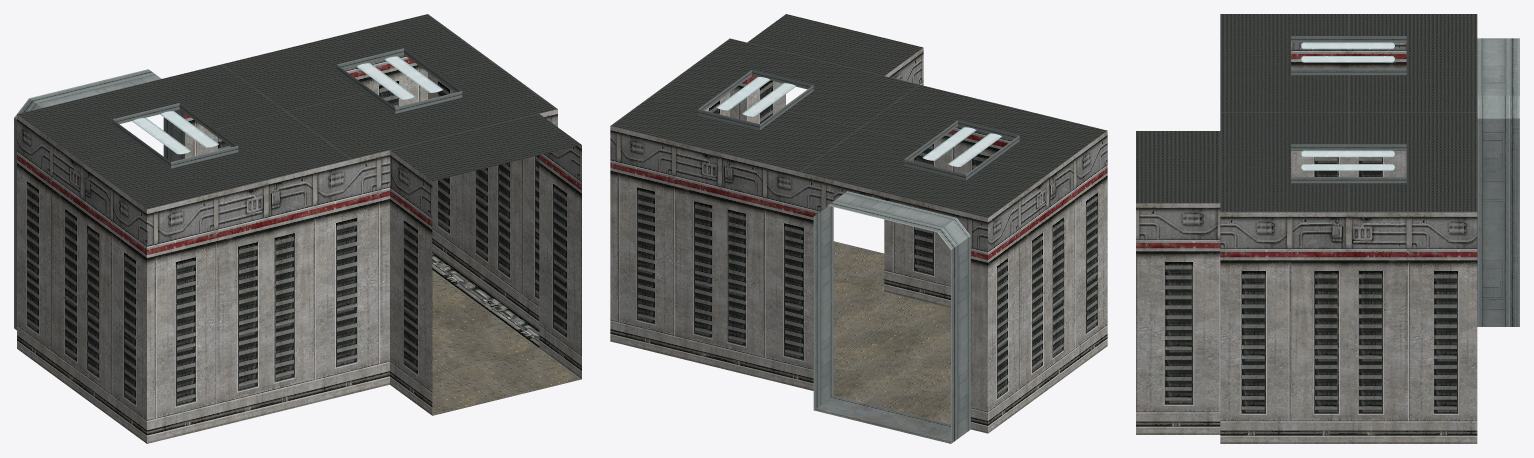
The model's file is mun_all_military_base_guard_house_rebl_s01_r1_foyer_mesh_r4.fbx.
The picture shows the model from 3 angles, left to right: view 1: azimuth 30°, elevation 25°; view 2: azimuth 150°, elevation 25°; view 3: azimuth 270°, elevation 25°; orthographic projection. The views are drawn at different scales.
Parts seen in each view (by area): view 1: mesh_node; view 2: mesh_node; view 3: mesh_node.
Part boxes in pixels (box(x1,y1,x2,y2)): mesh_node: box(14, 14, 581, 443); mesh_node: box(610, 14, 1107, 443); mesh_node: box(1136, 14, 1519, 443).
Bounding box in the file's own units: 5.5 × 3.08 × 4.5.
